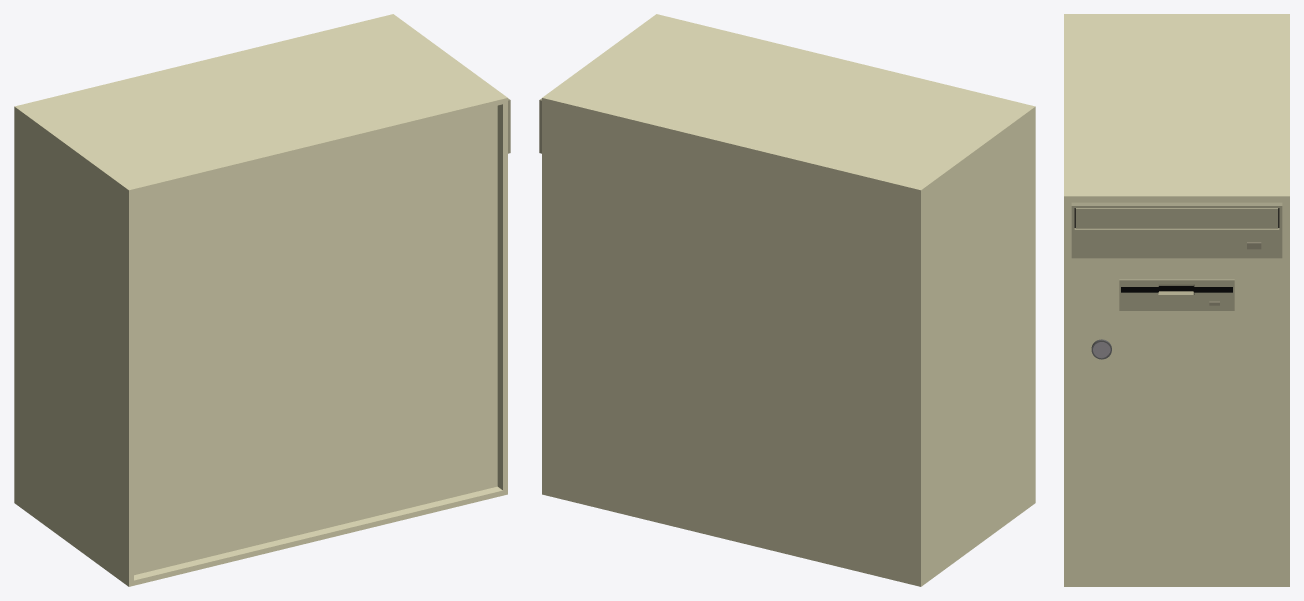
3 renders of one model, left to right at view 1: azimuth 30°, elevation 25°; view 2: azimuth 150°, elevation 25°; view 3: azimuth 270°, elevation 25°, orthographic.
Visible parts, largest first — view 1: Cube.003; view 2: Cube.003; view 3: Cube.003.
Boxes of the visible parts, left/top/right/bottom form: Cube.003: left=14, top=14, right=510, bottom=586; Cube.003: left=539, top=14, right=1035, bottom=586; Cube.003: left=1064, top=14, right=1289, bottom=586.
Bounding box in the file's own units: 205 × 200 × 105.
